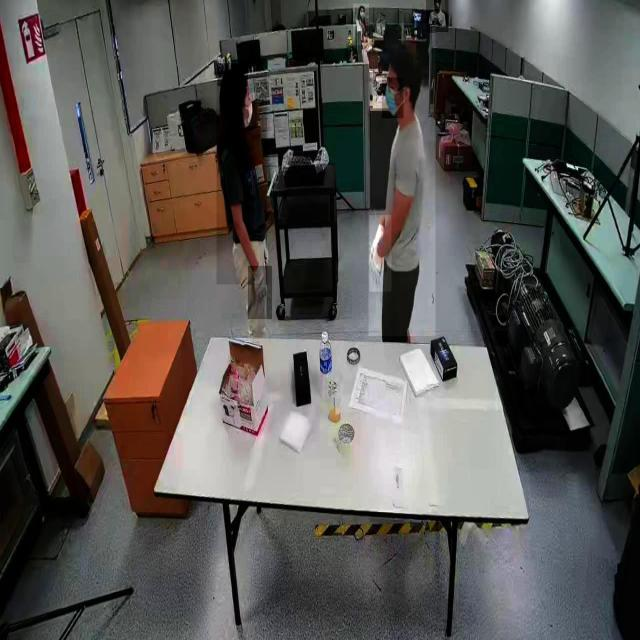face_mask: (382, 78, 404, 119), (242, 92, 258, 126), (433, 0, 440, 12), (360, 7, 364, 17)
hand_glove: (370, 215, 392, 293), (248, 266, 272, 320)
head_nohelmet: (387, 45, 420, 73), (218, 63, 248, 87)
person: (368, 23, 436, 337), (216, 59, 268, 285), (426, 0, 449, 33), (353, 4, 369, 46)
